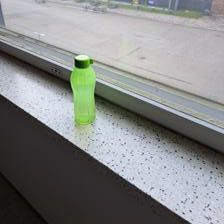bottle: (65, 51, 98, 129)
